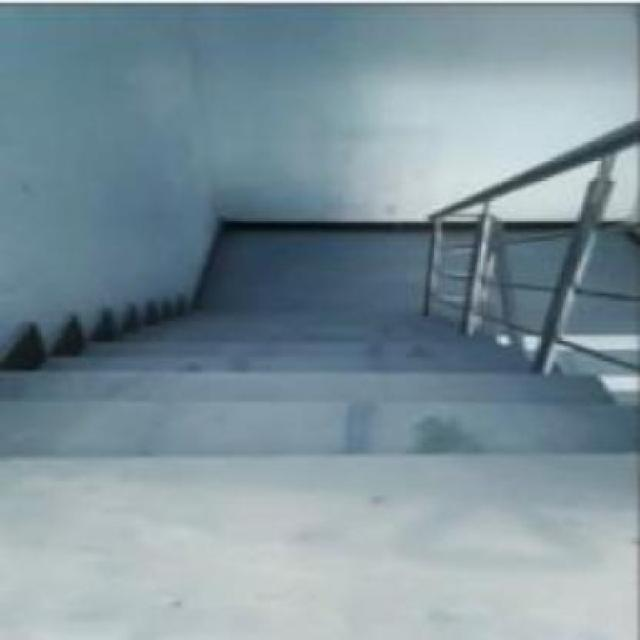stair: (7, 303, 640, 478)
